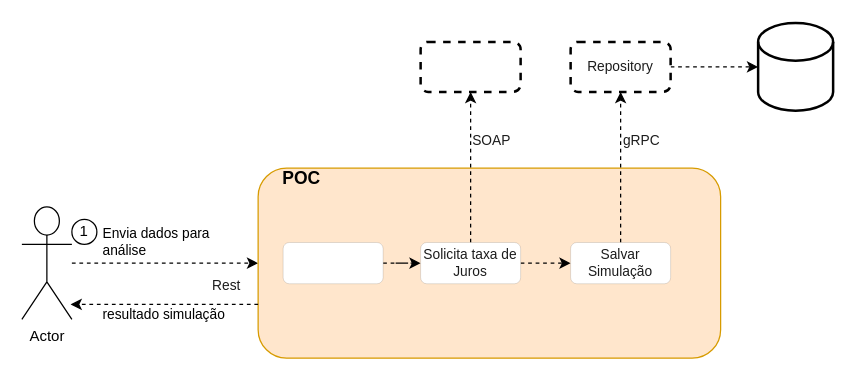
Some shapes in this 856 by 380 pixel diagram are drawn without their labels. Here are the shapes that lost their labels. From the top down, the centre of each, then its label:
At point (470, 66): "Serviço taxa de juros".
At point (795, 66): "DB".
At point (332, 262): "Valida dados".
